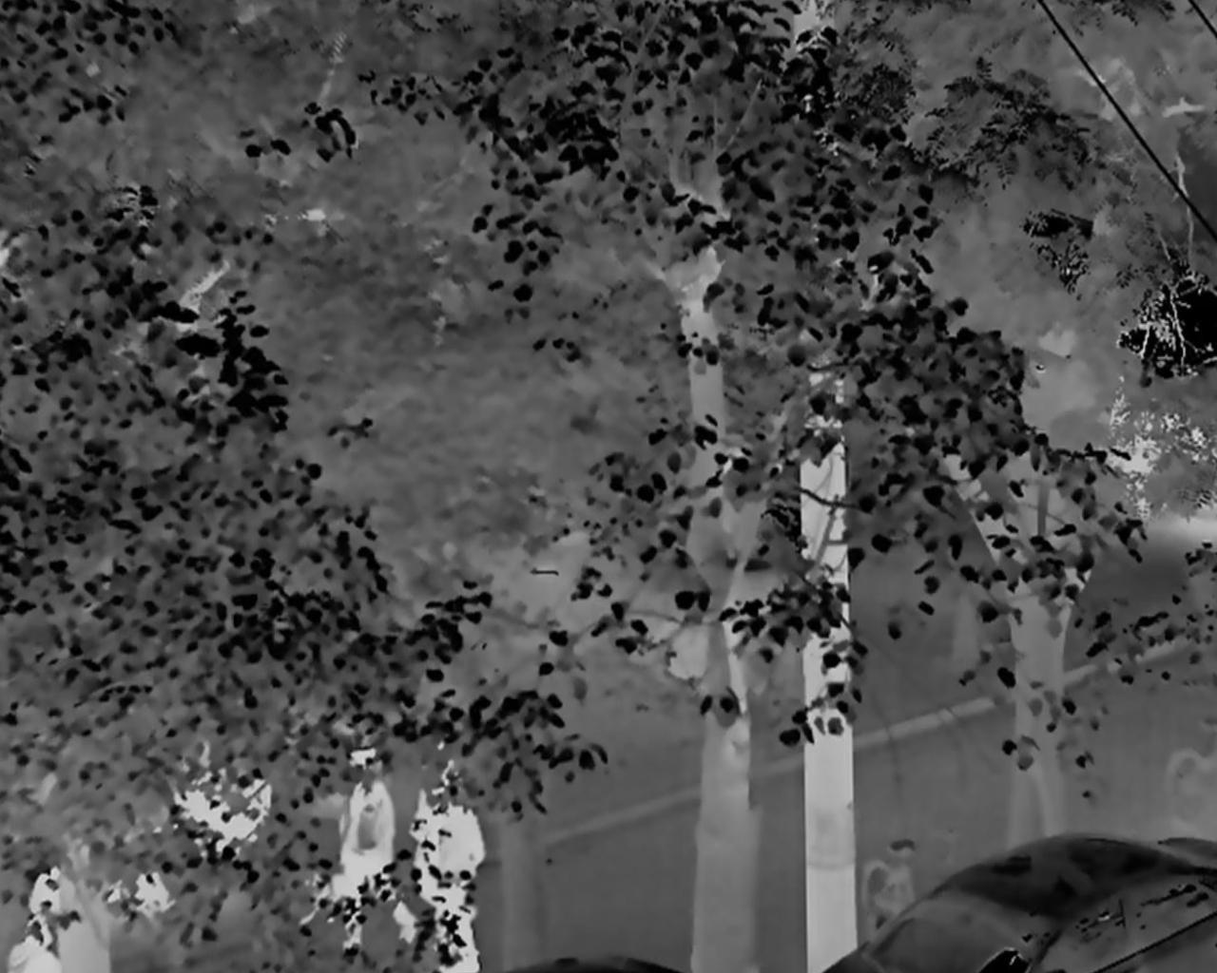person: (325, 745, 421, 956), (409, 761, 493, 973)
